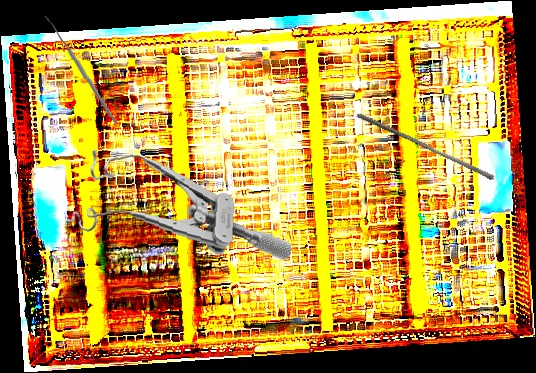Hook Surgical: (39, 12, 117, 127)
Pusher: (353, 111, 498, 182)
Speculum: (64, 147, 298, 261)
